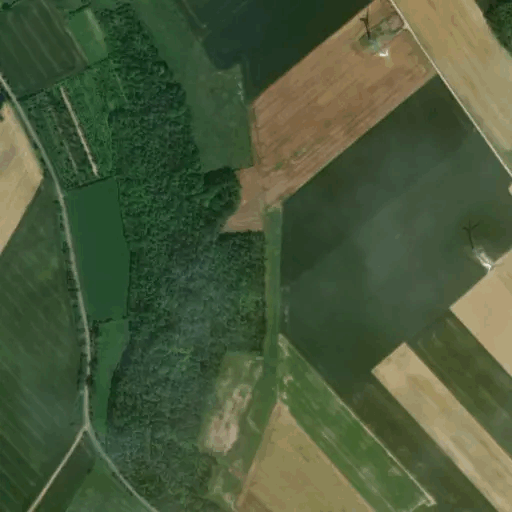wt: (355, 8, 397, 69)
